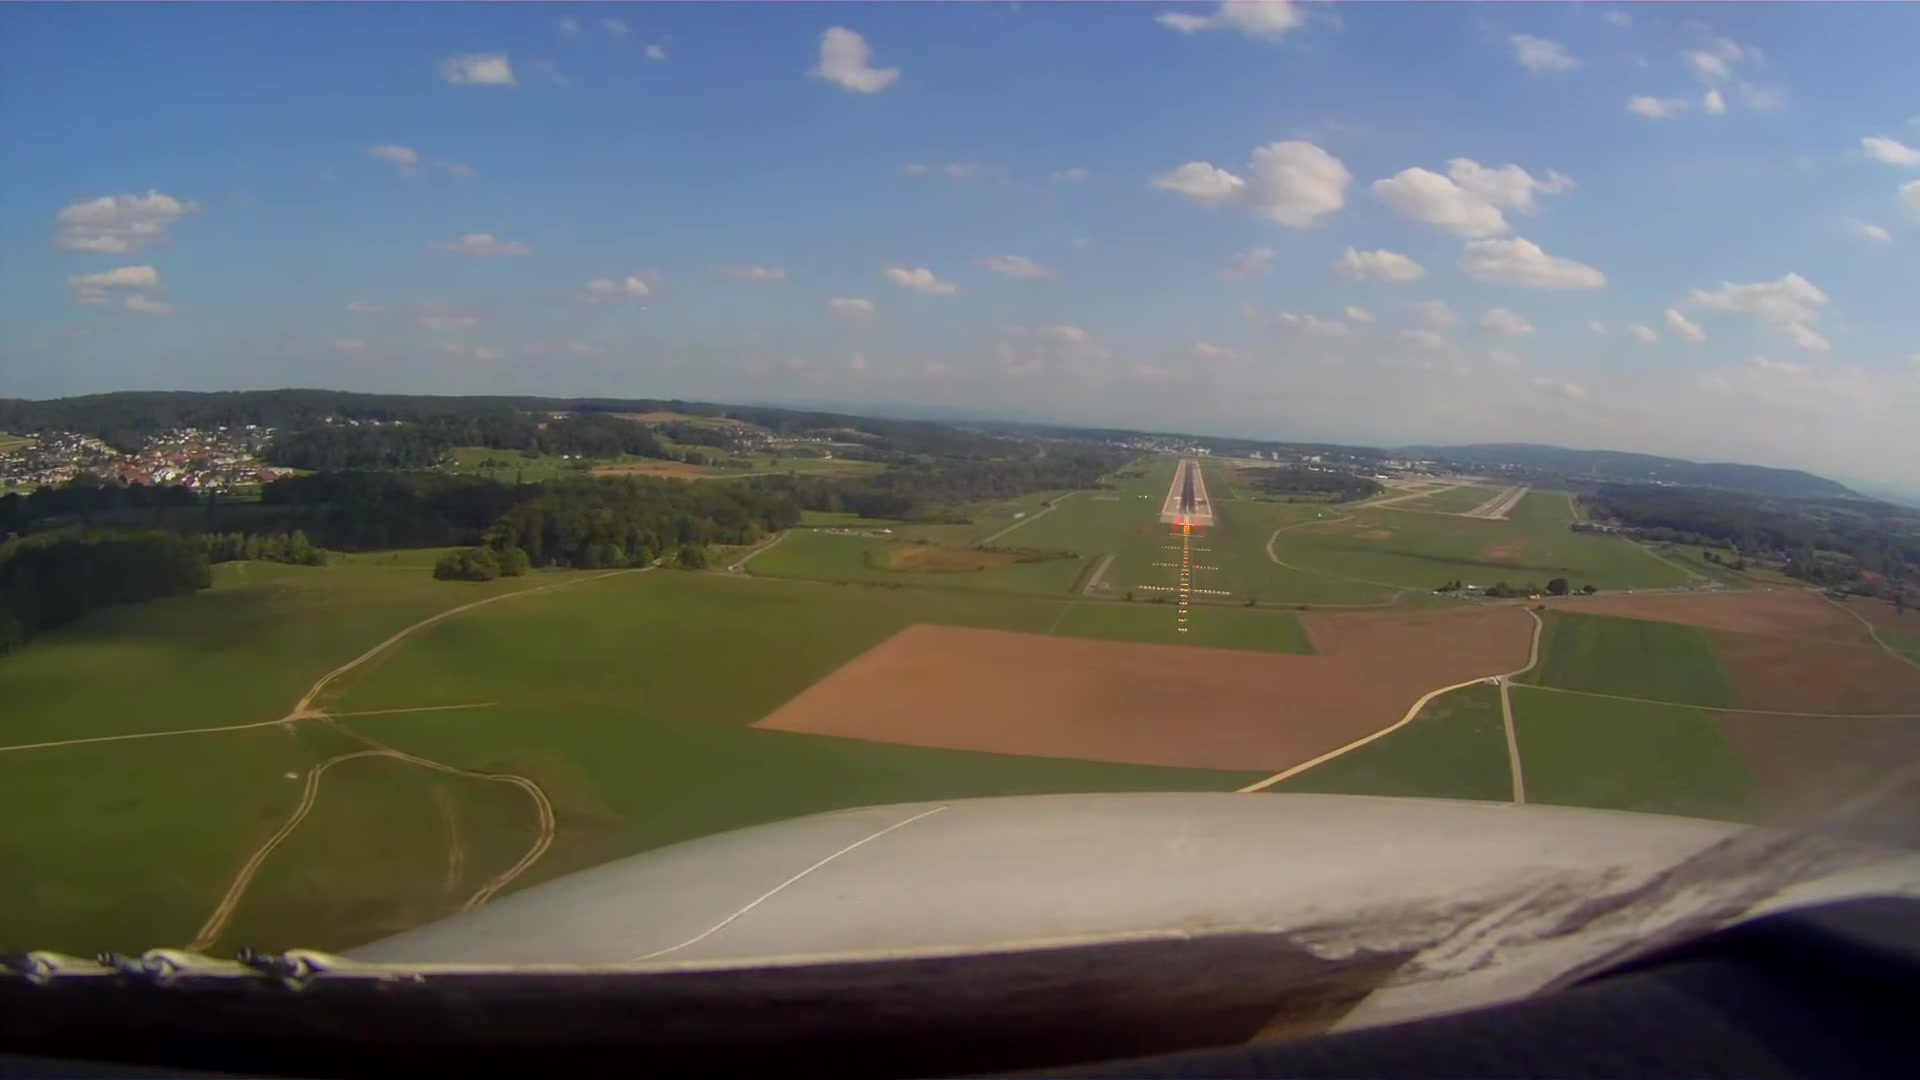runway: (1158, 458, 1212, 520), (1472, 481, 1530, 518)
